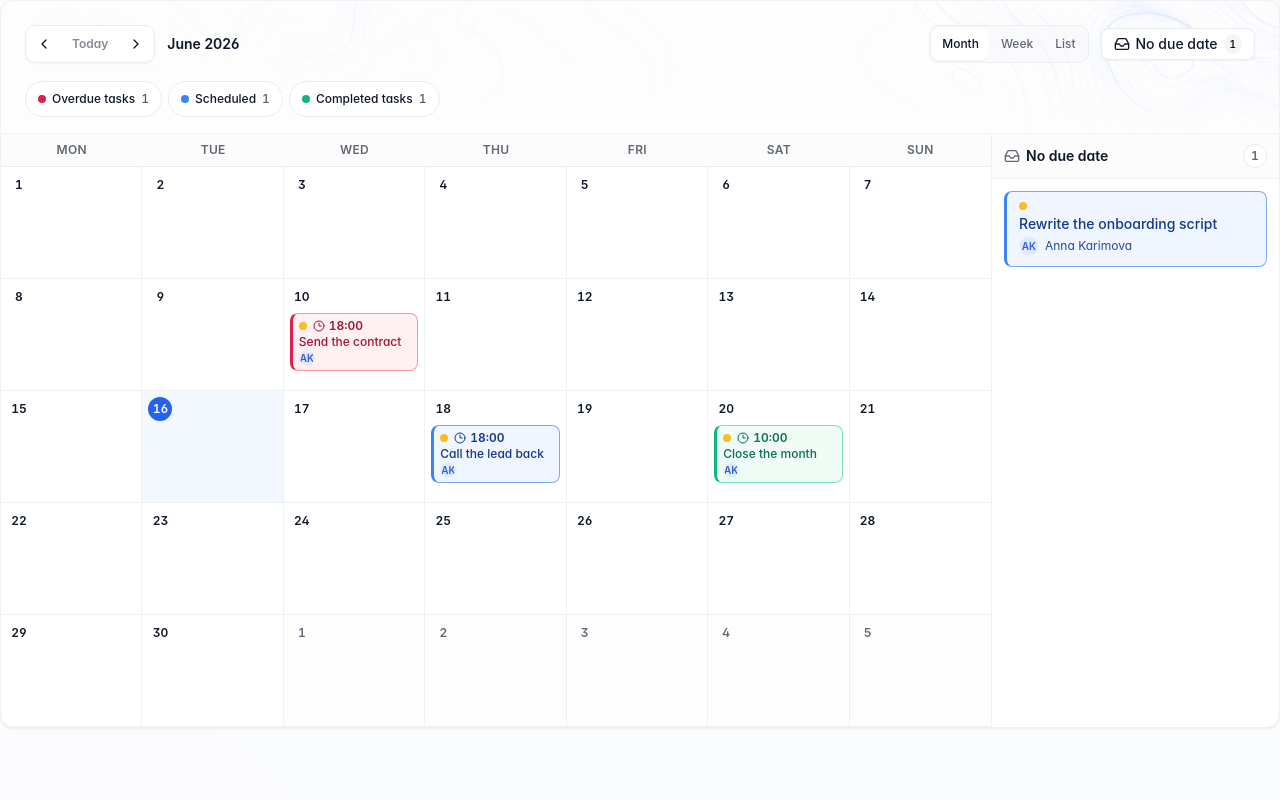
Scenario: task calendar › moves between months and comes back to today
The image size is (1280, 800).
Click the button named "Previous month".
click(44, 44)  # box [28,28,60,60]
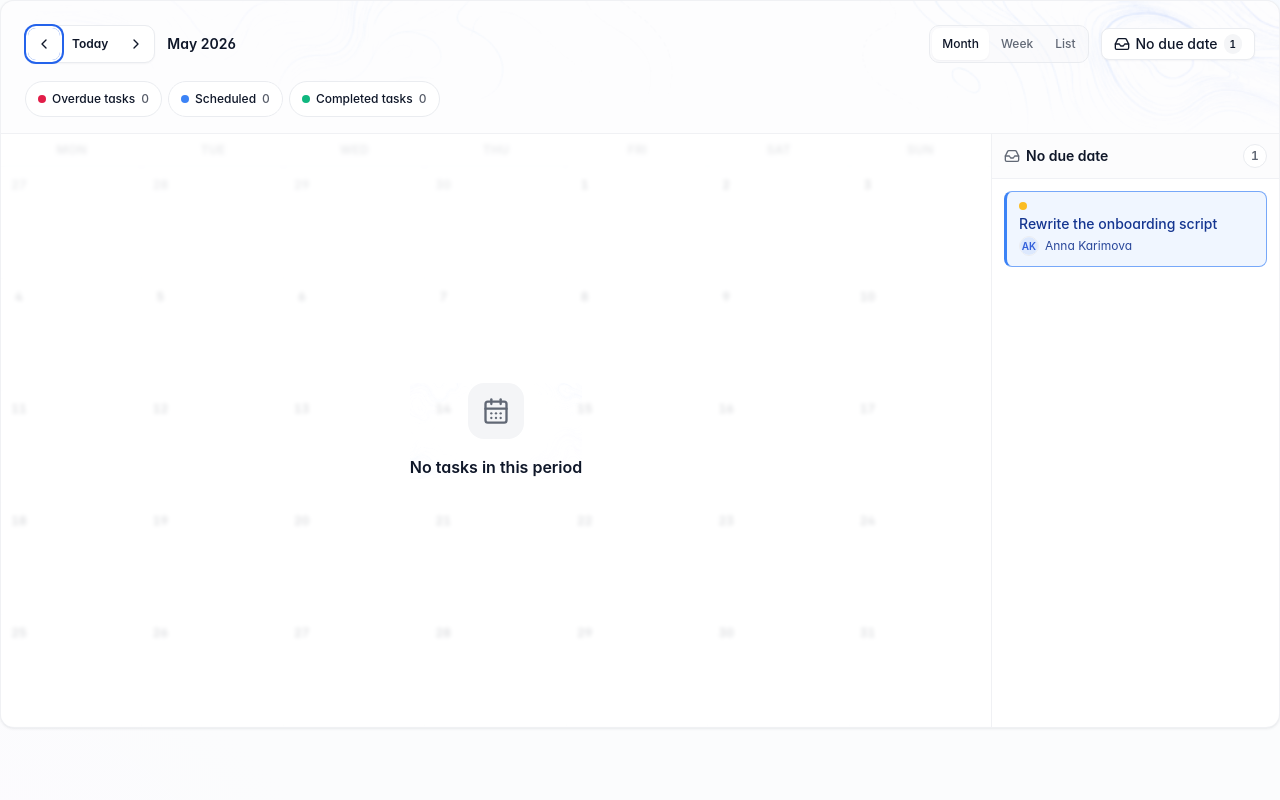
Expected: the button with test id "task-calendar-task-1" is gone
Click the button "Today".
click(90, 44)  # box [62,28,118,60]
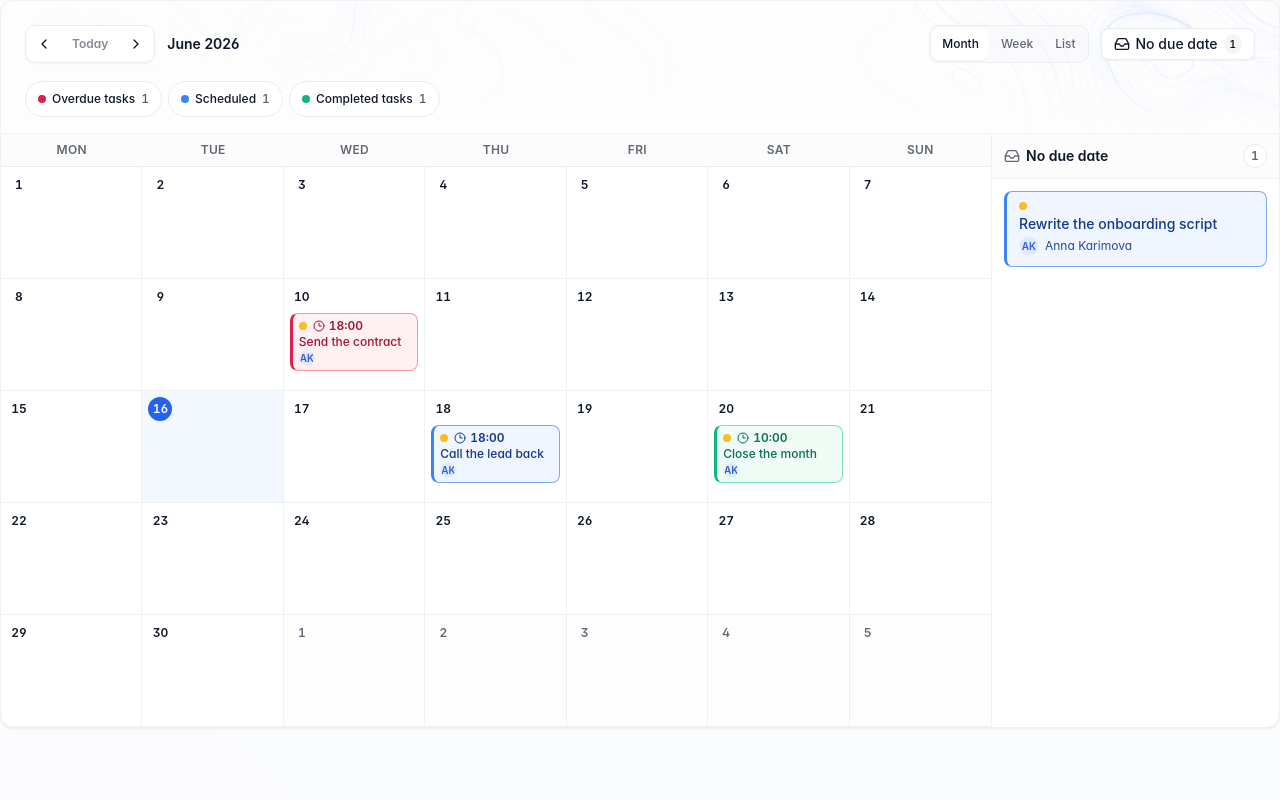
Expected: the button with test id "task-calendar-task-1" is shown, [431,425,560,483]
